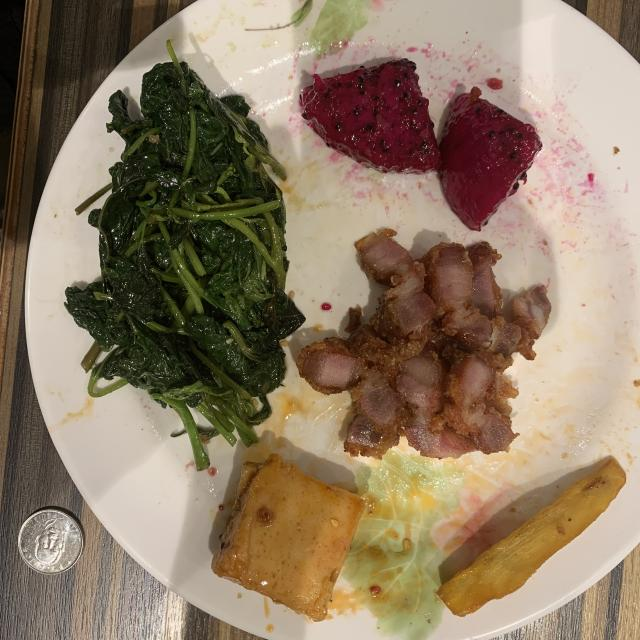coin: (19, 509, 84, 574)
creamy tofu: (211, 454, 364, 621)
red grilled pork: (296, 229, 551, 459)
sweet potato leaves: (65, 41, 304, 469)
